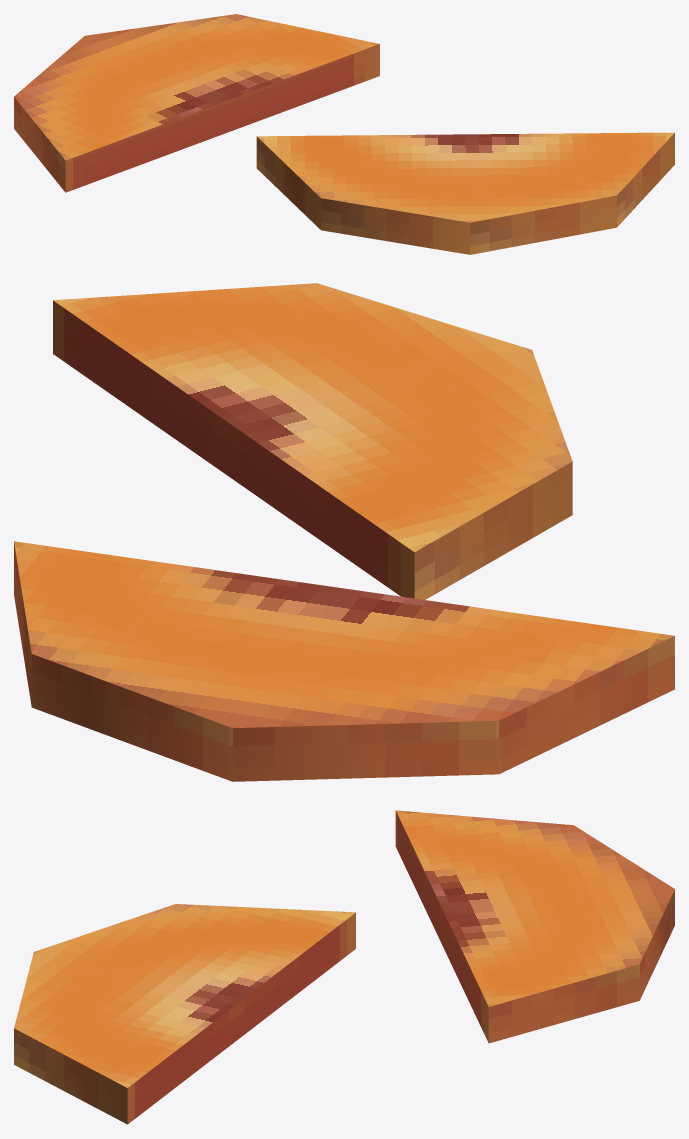
The model's file is Dried_Peach.fbx.
3 renders of one model, top to bottom at view 1: azimuth 30°, elevation 25°; view 2: azimuth 150°, elevation 25°; view 3: azimuth 270°, elevation 25°, orthographic. The views are drawn at different scales.
Parts seen in each view (by area): view 1: CandyFruitSlices; view 2: CandyFruitSlices; view 3: CandyFruitSlices.
Boxes of the visible parts, left/top/right/bottom form: CandyFruitSlices: left=14, top=14, right=674, bottom=254; CandyFruitSlices: left=14, top=283, right=674, bottom=781; CandyFruitSlices: left=14, top=810, right=674, bottom=1124.
Bounding box in the file's own units: 14.6 × 1.06 × 15.
